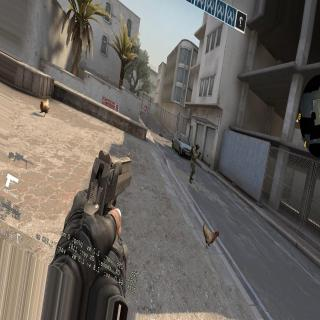CT-Body: (189, 142, 200, 183)
CT-Head: (194, 143, 200, 151)
